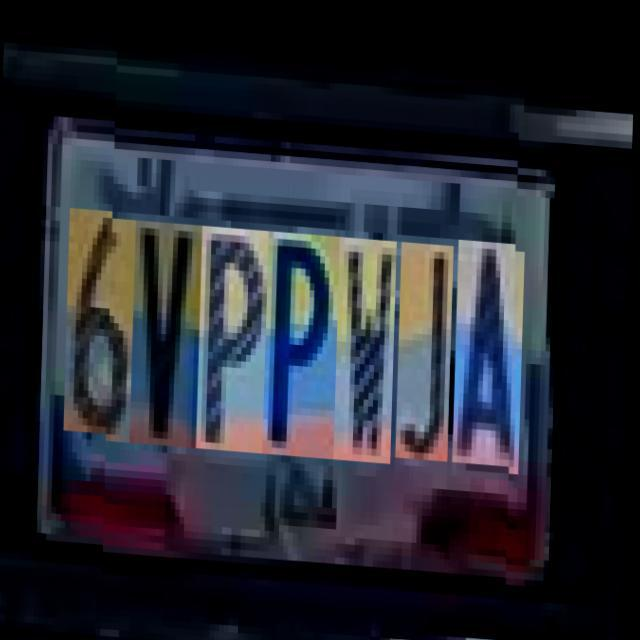6: (66, 214, 138, 441)
A: (454, 232, 526, 458)
J: (398, 235, 455, 454)
P: (265, 226, 341, 454), (198, 222, 270, 449)
V: (132, 218, 204, 444)
W: (336, 231, 398, 457)
